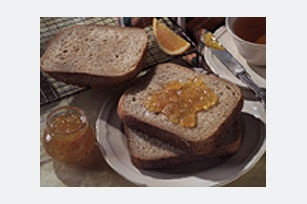background: (55, 19, 117, 54), (19, 7, 71, 27), (17, 5, 127, 14), (20, 15, 45, 52), (20, 5, 92, 17), (12, 7, 107, 16)
